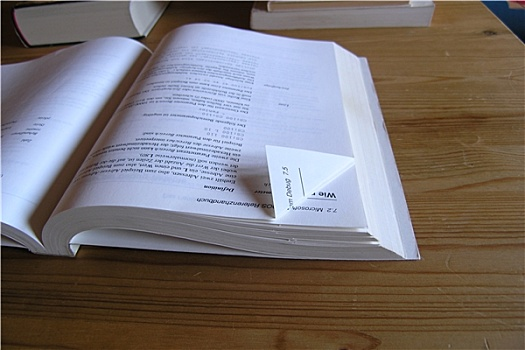book: (1, 20, 424, 263)
